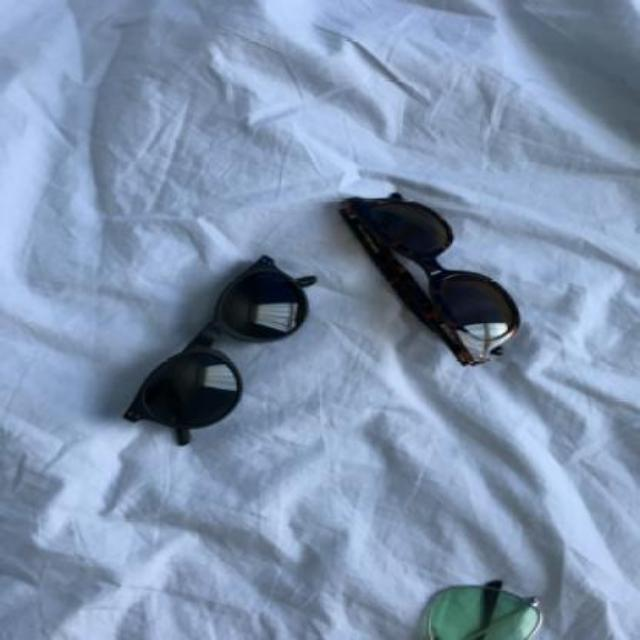sunglasses: (122, 257, 318, 447), (338, 192, 518, 364)
